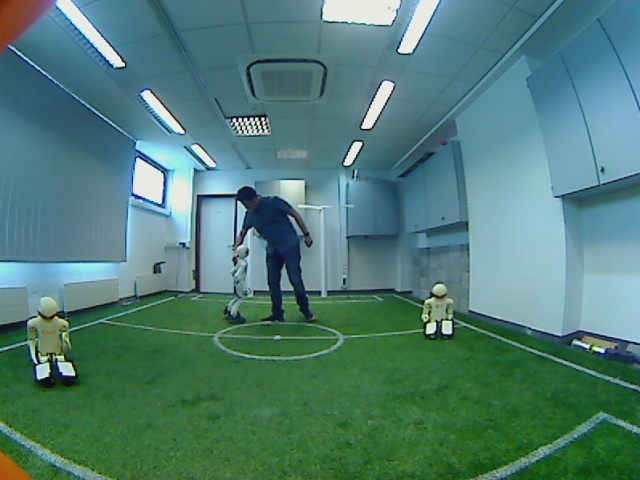robot: (19, 291, 88, 387), (413, 281, 461, 347), (219, 243, 256, 328)
